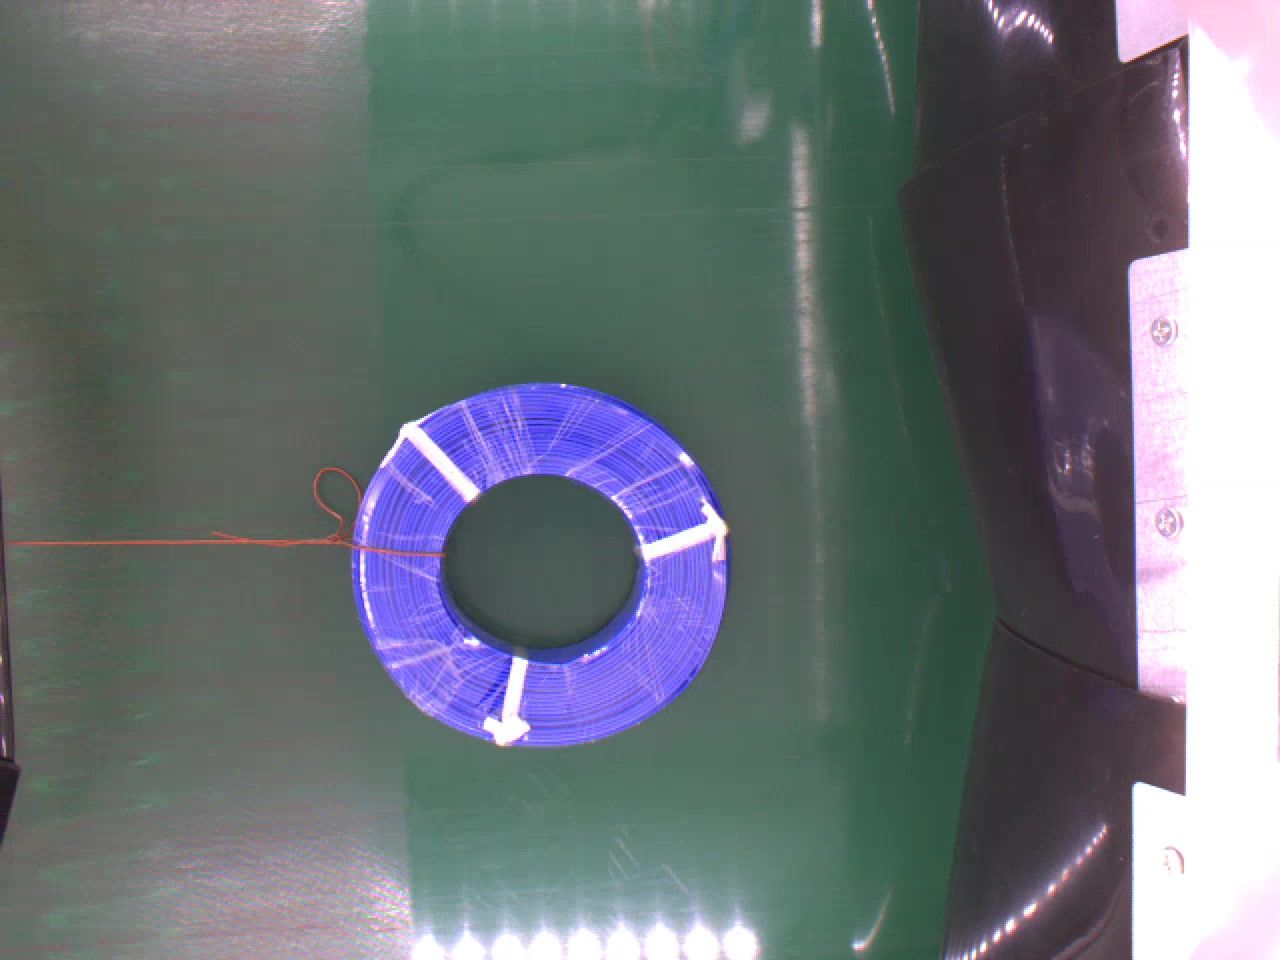blue: (350, 376, 728, 750)
